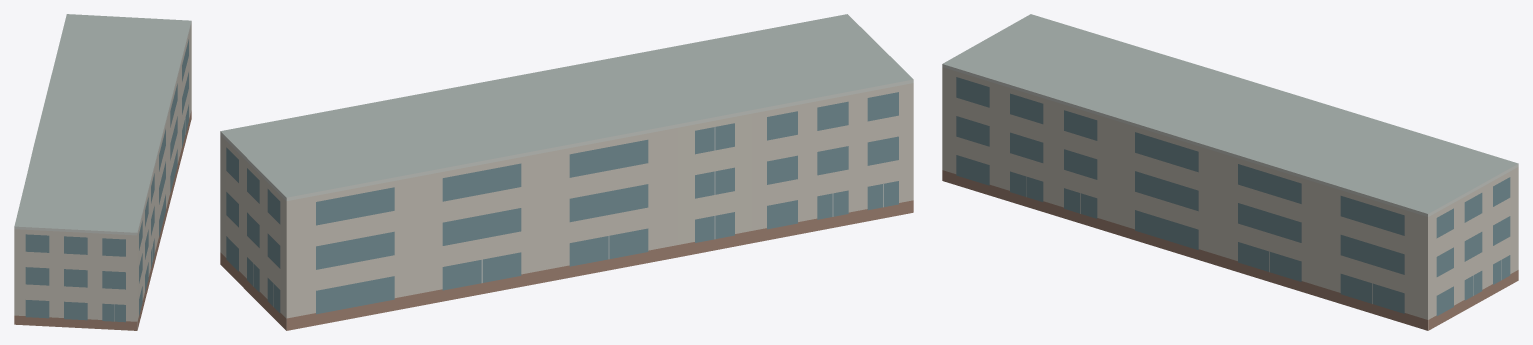
File: survey-upis-32756122.glb
3 renders of one model, left to right at view 1: azimuth 30°, elevation 25°; view 2: azimuth 150°, elevation 25°; view 3: azimuth 270°, elevation 25°, orthographic. The views are drawn at different scales.
Visible parts, largest first — view 1: survey-upis-32756122.tmp; view 2: survey-upis-32756122.tmp; view 3: survey-upis-32756122.tmp.
Part boxes in pixels (x1=…): survey-upis-32756122.tmp: x1=14, y1=14, x2=191, y2=330; survey-upis-32756122.tmp: x1=220, y1=14, x2=913, y2=330; survey-upis-32756122.tmp: x1=942, y1=14, x2=1518, y2=330.
Bounding box in the file's own units: 33.57 × 9.15 × 40.89.
